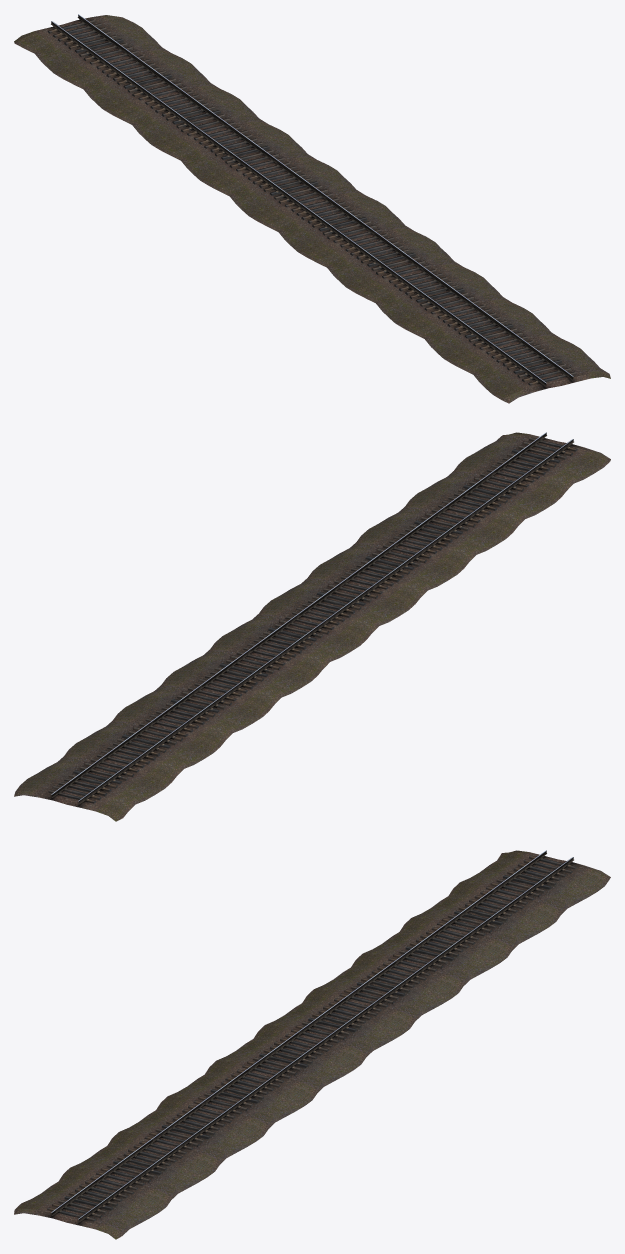
Rendered from 1track_50_der_TSM.gltf.
3 renders of one model, top to bottom at view 1: azimuth 30°, elevation 25°; view 2: azimuth 150°, elevation 25°; view 3: azimuth 330°, elevation 25°, orthographic.
Size of the model in its own units: 6.7 by 0.6438 by 50.8.
Materials: 1 (1 with a texture image).
